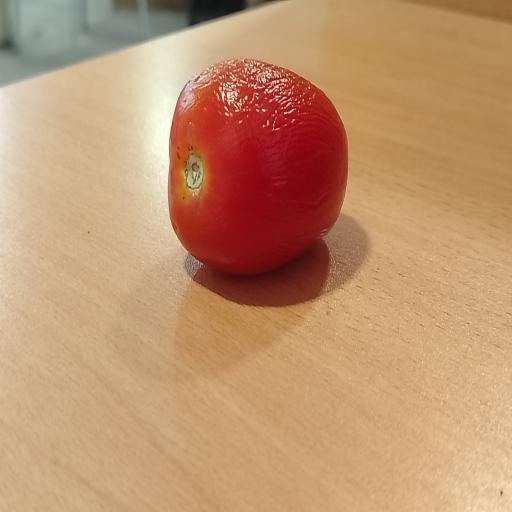spoiled: (168, 59, 348, 274)
